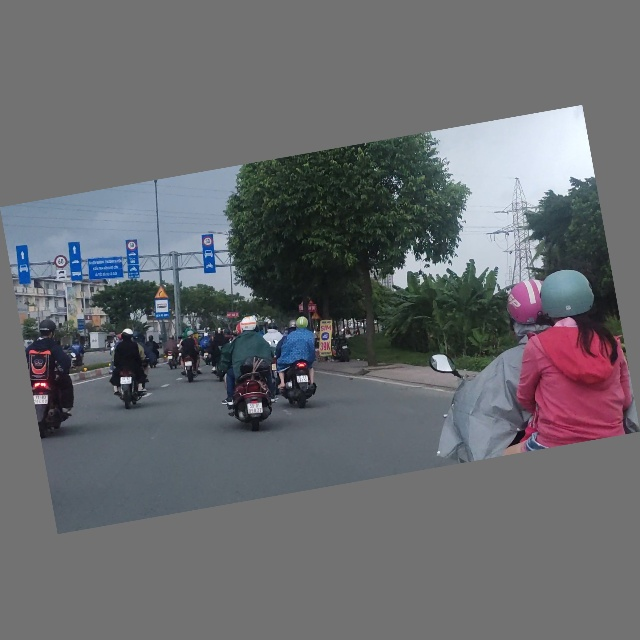I.434a: (153, 299, 172, 322)
P.127*50: (202, 236, 214, 248), (126, 240, 138, 252)
P.127*60: (53, 254, 68, 270)
S.505a*Xe tai va cong: (55, 269, 68, 283)
W.201b: (152, 286, 169, 301)
